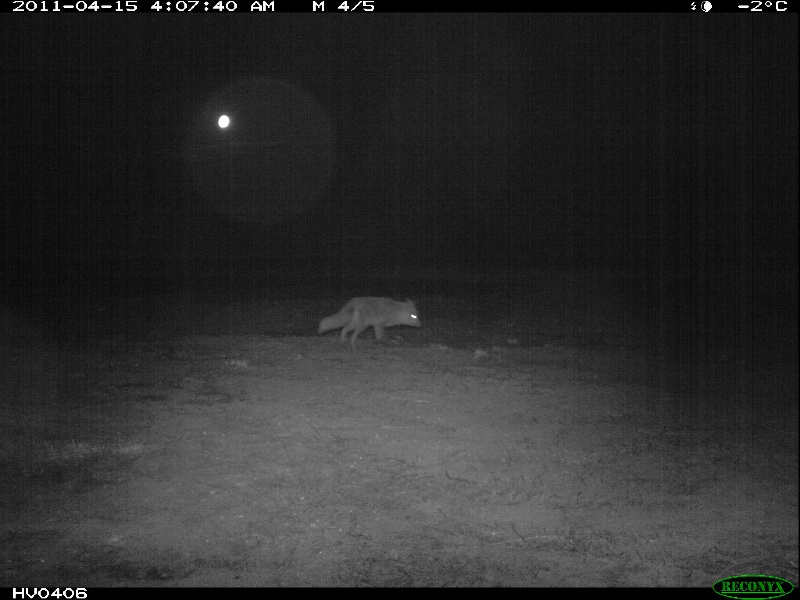fox: (313, 287, 425, 348)
